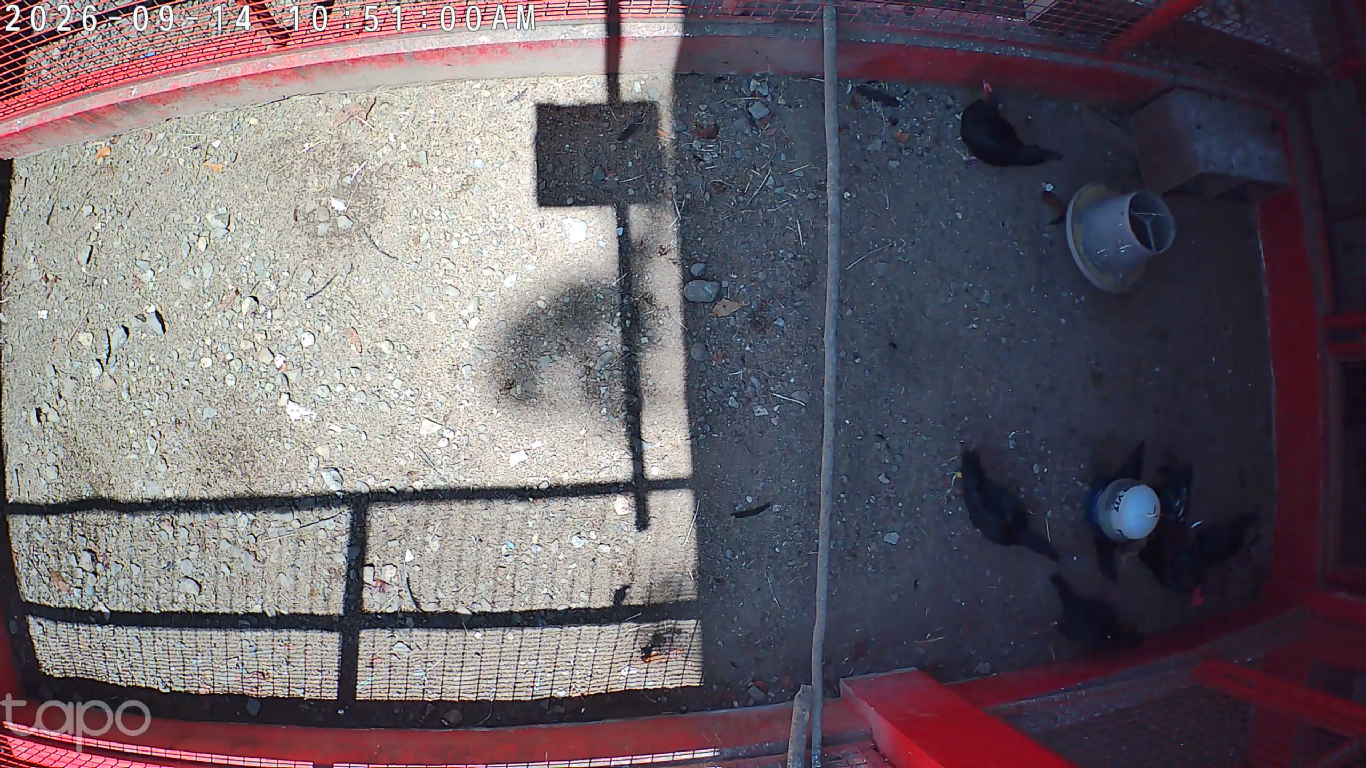Chicken: (946, 443, 1065, 567), (950, 78, 1064, 175), (1087, 439, 1152, 586)
Rooster: (1129, 457, 1209, 619)
